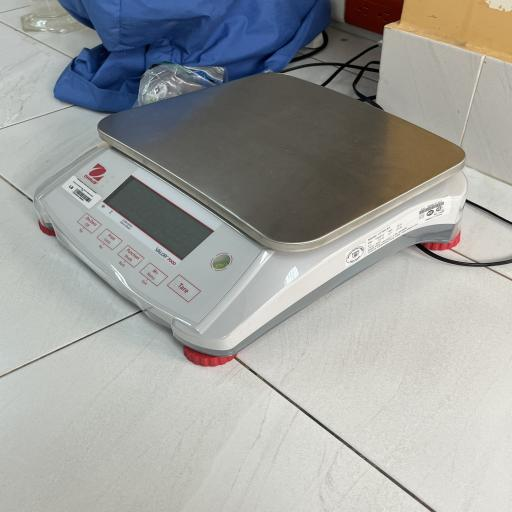Balanza_Granataria_Ohaus: (24, 68, 478, 376)
